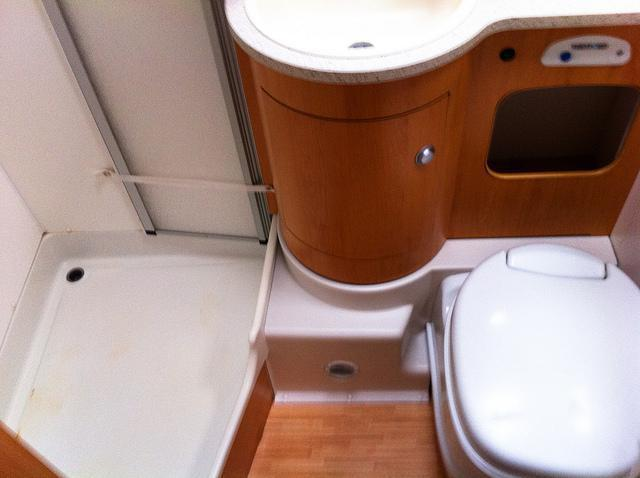Ducha: (0, 4, 270, 471)
Sanitario: (433, 233, 629, 473)
